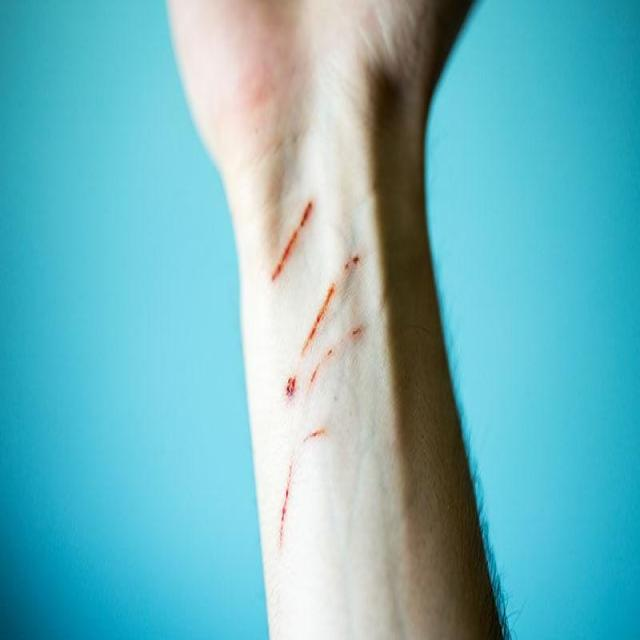Cut: (287, 253, 366, 398), (274, 422, 330, 552), (263, 195, 313, 284)
